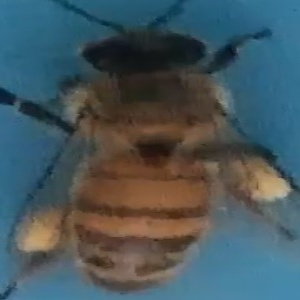bee: (18, 3, 293, 296)
